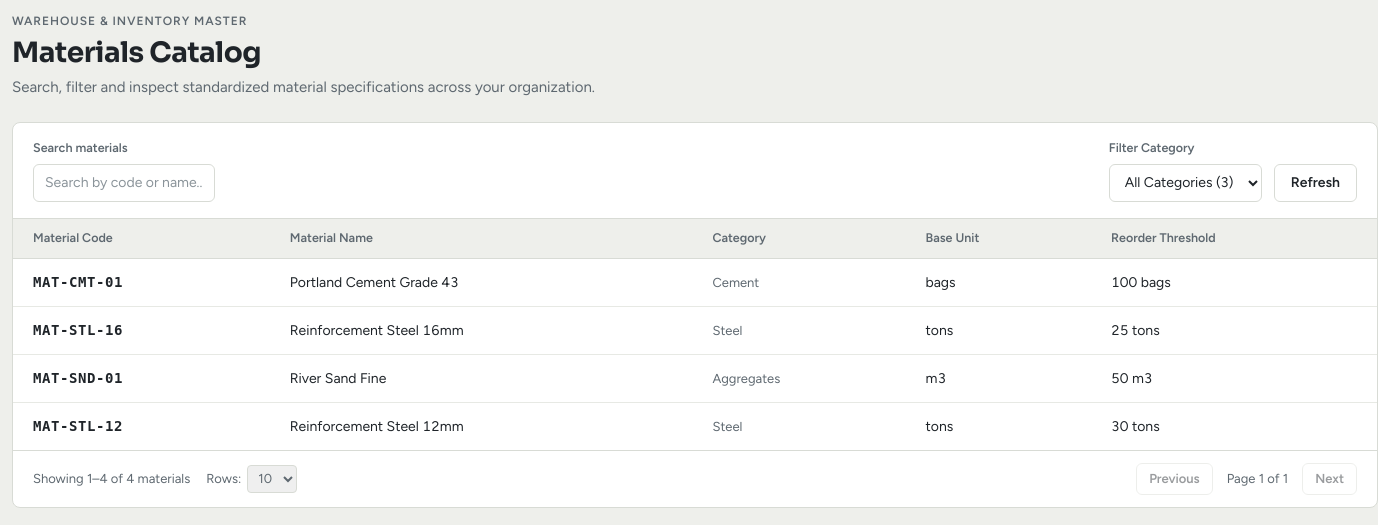
Test: MaterialsPage (AESCS-49) › filters materials by category dropdown
Expected: the text "Portland Cement Grade 43" is shown, [270, 258, 692, 306]
Select "Cement" in the dropdown named "filter by category". click: (1185, 183)
box: [1109, 164, 1262, 202]
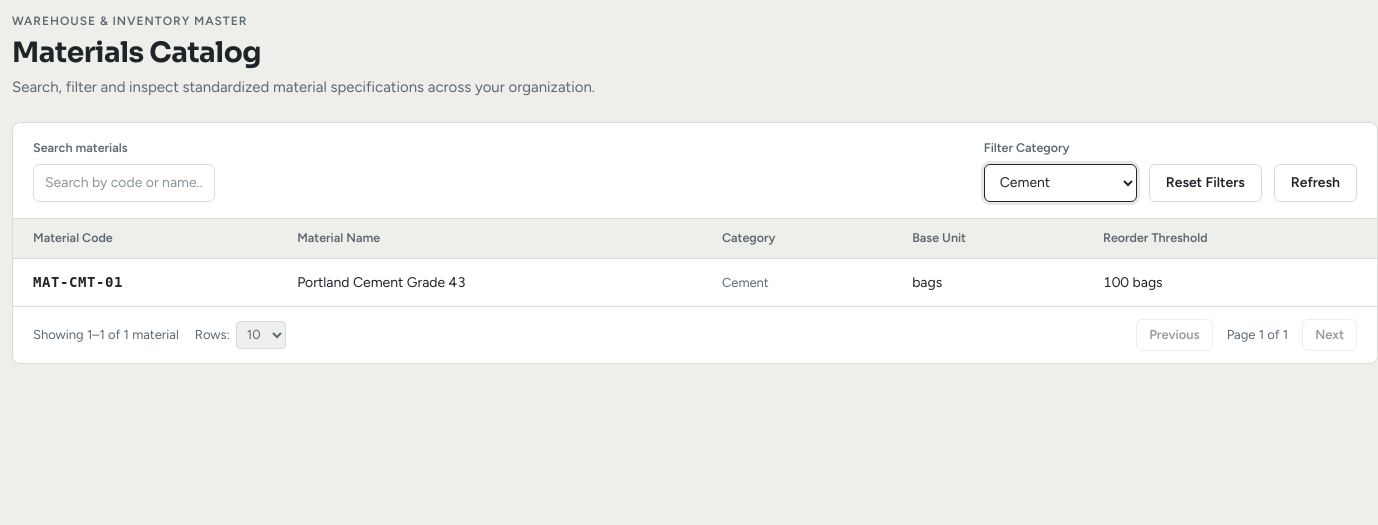
Expected: the text "Portland Cement Grade 43" is shown, [277, 258, 702, 306]
Expected: the text "Reinforcement Steel 16mm" is gone
